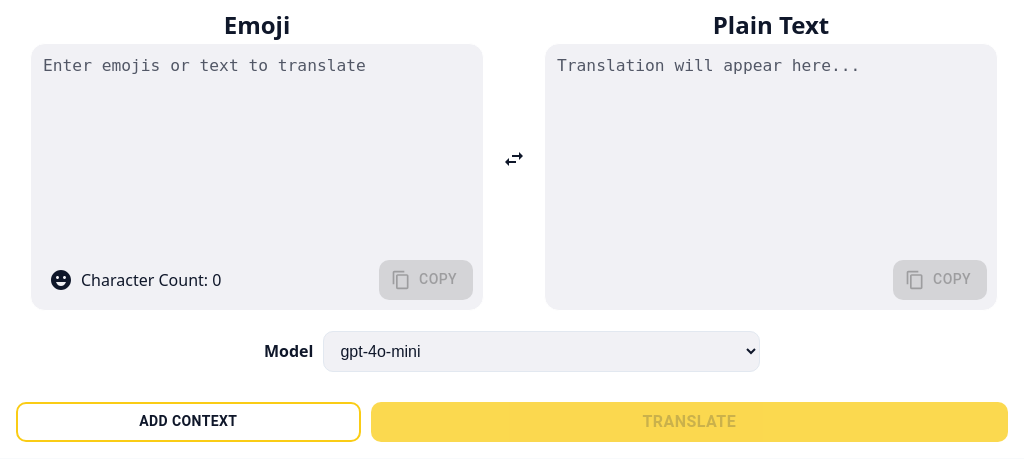
Test case: TranslationBox › enables translate button after typing and displays backend result
Type "Hello" into the text box with placeholder "Enter emojis or text to translate" at (257,154), box [41,54,473,254]
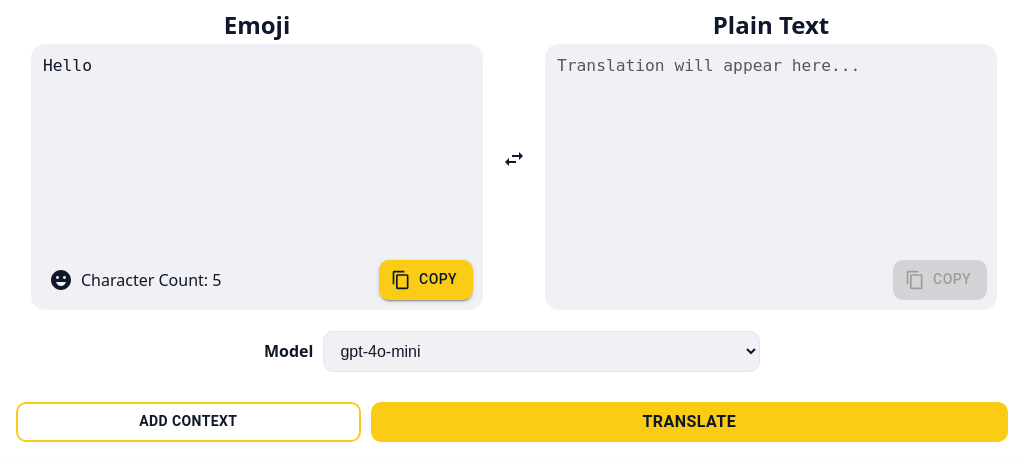
Expected: the button "TRANSLATE" is enabled
Click the button "TRANSLATE" at (689,422), box [371,402,1008,442]
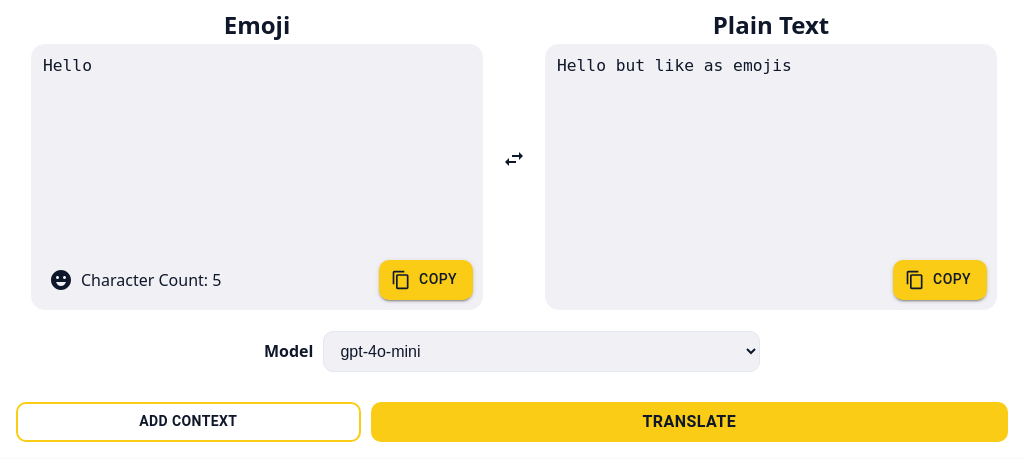
Expected: the text box with placeholder "Translation will appear here..." below "Plain Text" holds "Hello but like as emojis", [555,54,987,254]
